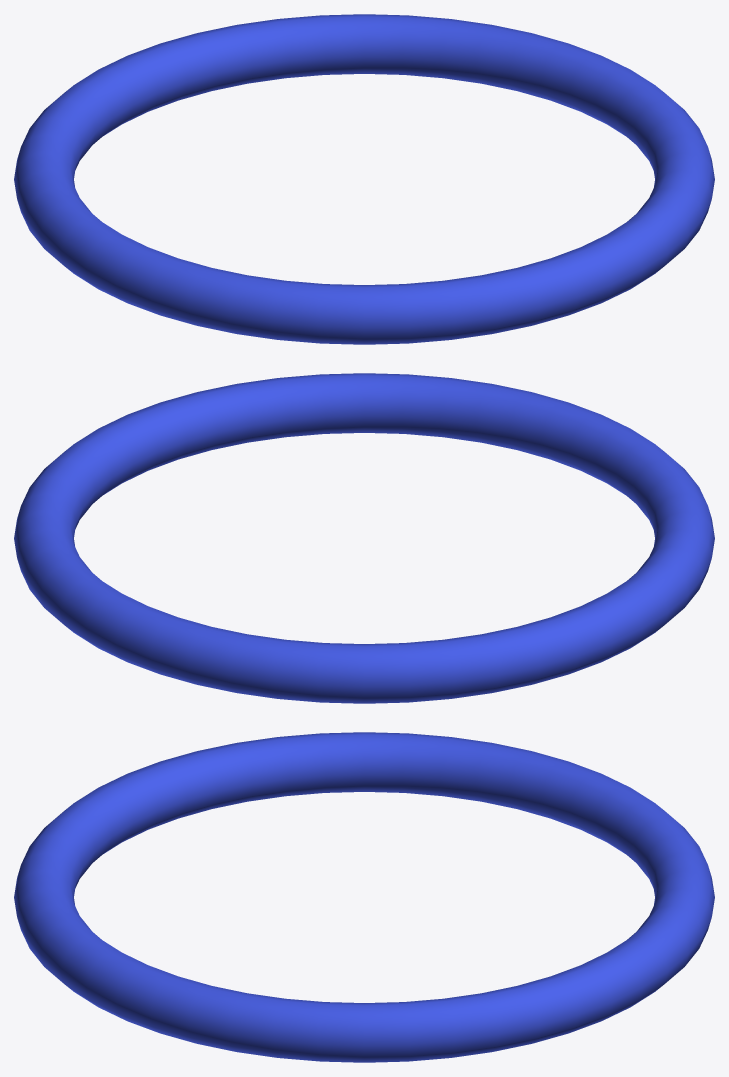
The model's file is teleporttarget.fbx.
3 renders of one model, top to bottom at view 1: azimuth 30°, elevation 25°; view 2: azimuth 150°, elevation 25°; view 3: azimuth 270°, elevation 25°, orthographic.
Parts seen in each view (by area): view 1: Torus; view 2: Torus; view 3: Torus.
Boxes of the visible parts, x1,y1,x2,y2 form: Torus: (14,14,714,344); Torus: (14,373,714,703); Torus: (14,732,714,1062).
Size of the model in its own units: 19.74 by 1.69 by 19.74.
